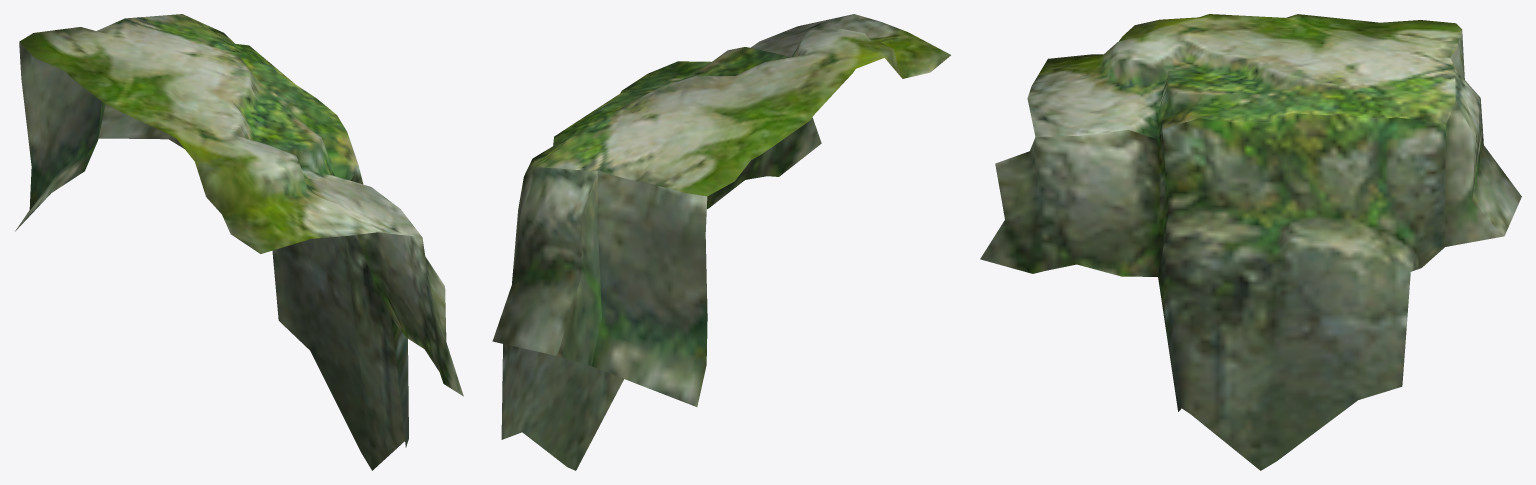
The model's file is S_Rock_Green048_1060_21.fbx.
3 views of the same model, side by side, from view 1: azimuth 30°, elevation 25°; view 2: azimuth 150°, elevation 25°; view 3: azimuth 270°, elevation 25° (orthographic). The views are drawn at different scales.
Parts seen in each view (by area): view 1: S_Rock_Green048_1060_21; view 2: S_Rock_Green048_1060_21; view 3: S_Rock_Green048_1060_21.
Part boxes in pixels (x1,y1,x2,y2): S_Rock_Green048_1060_21: (15, 14, 463, 470); S_Rock_Green048_1060_21: (492, 14, 950, 470); S_Rock_Green048_1060_21: (980, 14, 1521, 470).
Bounding box in the file's own units: 821 × 1328 × 1821.
1 material, 1 textured.
